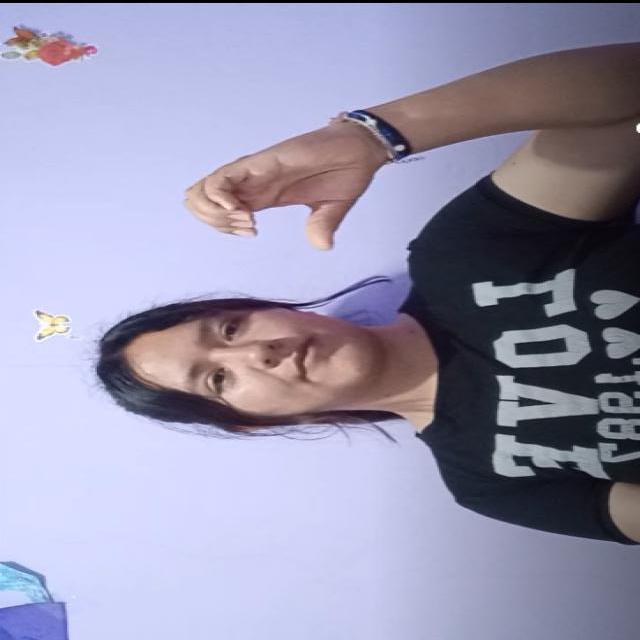C: (163, 130, 384, 257)
